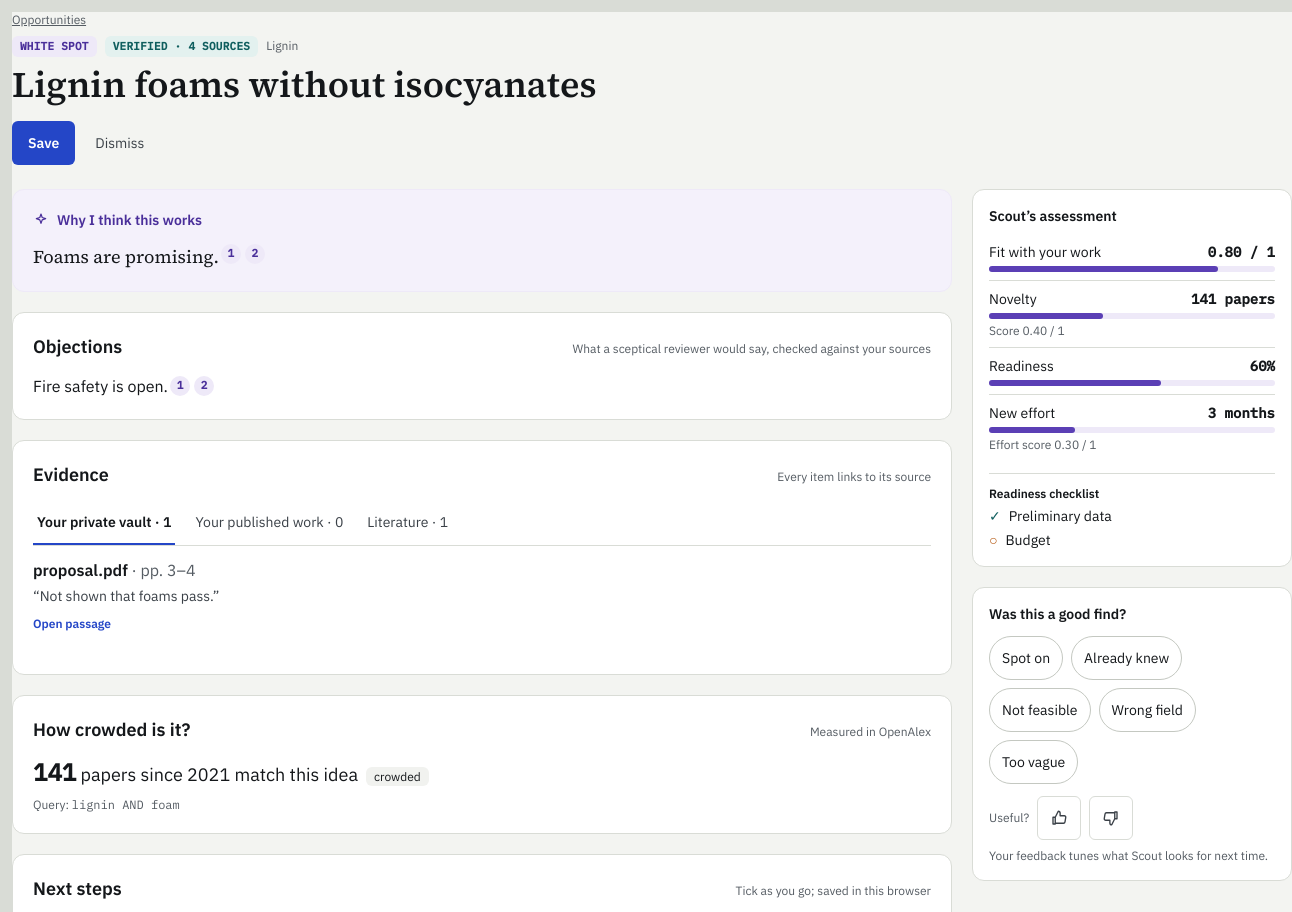
Test: OpportunityDetailPage › shows the claims, the evidence tabs with counts, the measured count, the scores and the readiness checklist
Expected: the heading "Lignin foams without isocyanates" is shown, [12,60,596,108]
Expected: the tab "Your private vault · 1" is shown, [33,501,176,545]
Click the tab "Your published work · 0" at (269, 523), box [192,501,347,545]
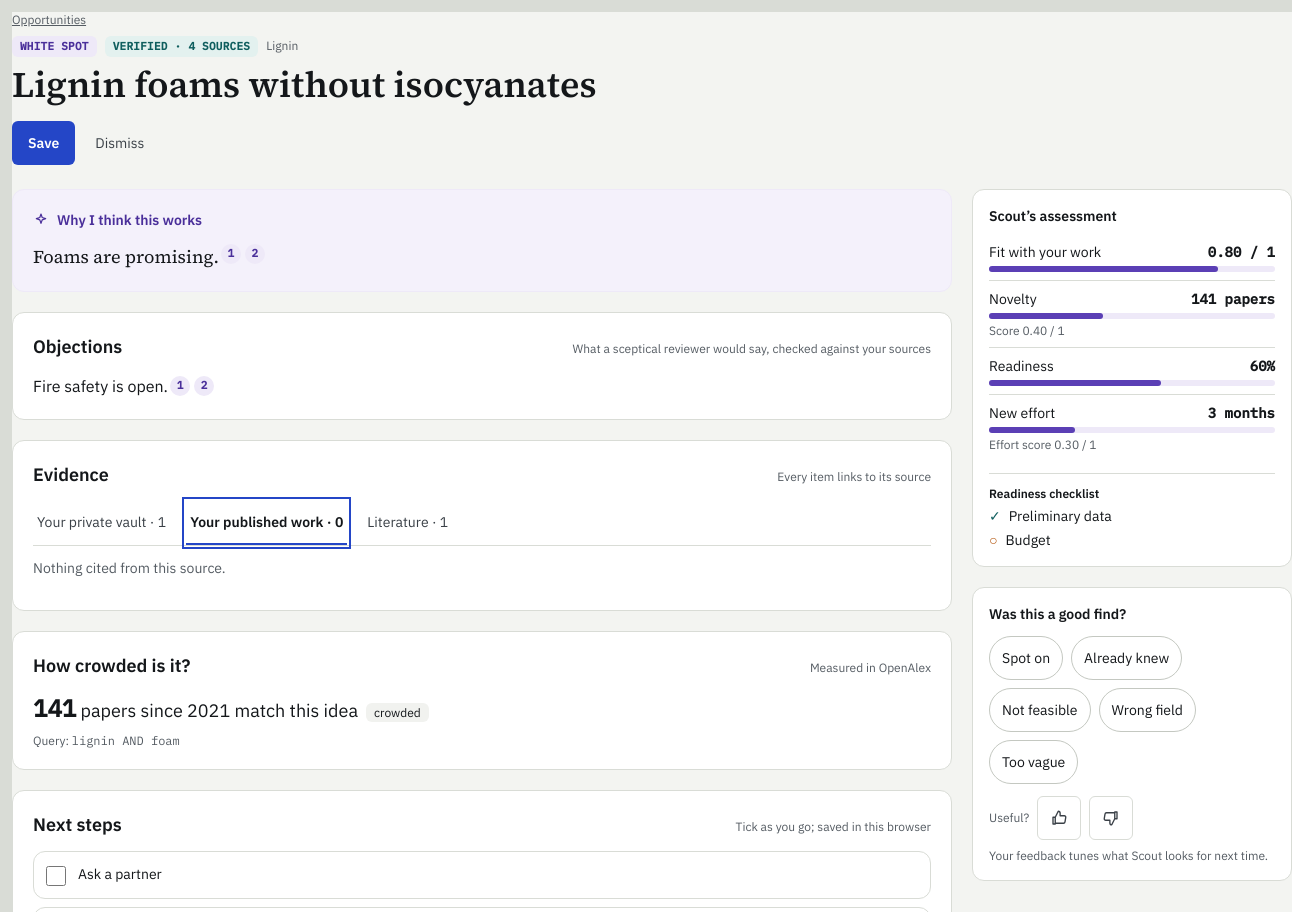
Expected: the text "141" is shown, [33,692,76,724]
Expected: the text "Nothing cited from this source." is shown, [33,559,226,577]
